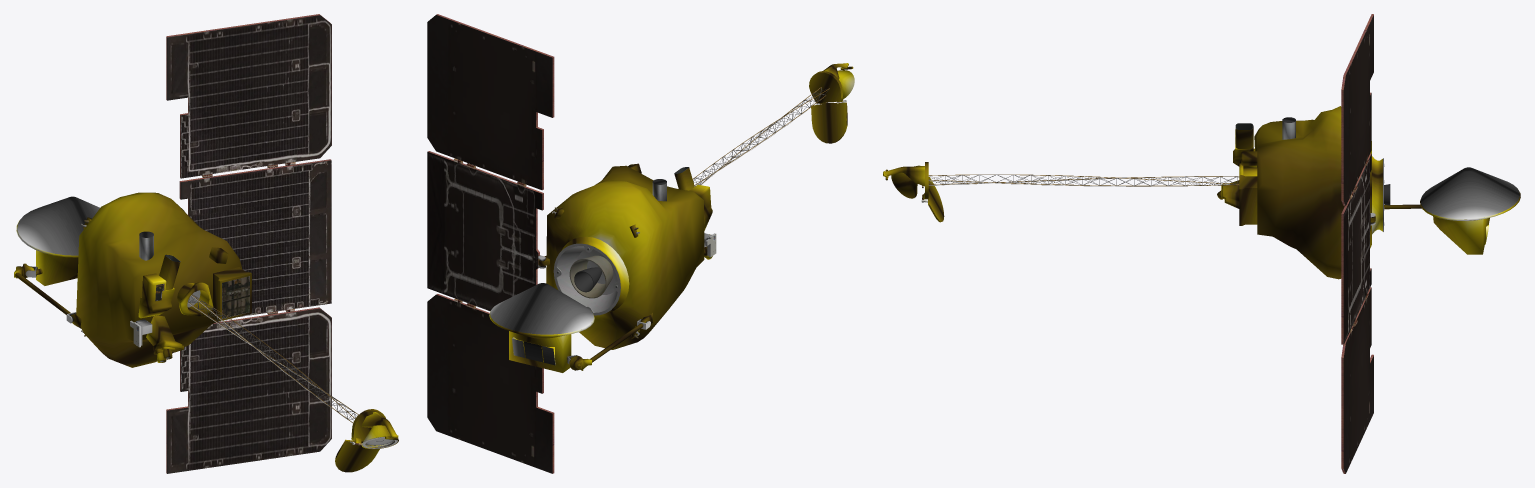
File: odyssey.glb
3 views of the same model, side by side, from view 1: azimuth 30°, elevation 25°; view 2: azimuth 150°, elevation 25°; view 3: azimuth 270°, elevation 25° (orthographic). The views are drawn at different scales.
Visible parts, largest first — view 1: shiny_panel, foil_gold, foil_silver, tex_boom, tex_01, tex_02, tex_AO_2; view 2: tex_01, foil_gold, tex_02, foil_silver, tex_boom, tex_04, normal_panels; view 3: foil_gold, tex_01, tex_02, foil_silver, tex_boom.
Boxes of the visible parts, <box> form: shiny_panel: <box>167,15,331,473</box>; foil_gold: <box>14,192,398,472</box>; foil_silver: <box>17,196,153,255</box>; tex_boom: <box>188,294,358,422</box>; tex_01: <box>71,162,361,445</box>; tex_02: <box>166,14,331,473</box>; tex_AO_2: <box>25,266,169,362</box>; tex_01: <box>427,15,846,473</box>; foil_gold: <box>489,63,854,372</box>; tex_02: <box>427,14,620,473</box>; foil_silver: <box>490,179,666,334</box>; tex_boom: <box>692,87,829,186</box>; tex_04: <box>555,183,666,338</box>; normal_panels: <box>512,338,555,365</box>; foil_gold: <box>883,106,1520,279</box>; tex_01: <box>921,15,1390,473</box>; tex_02: <box>1341,14,1384,473</box>; foil_silver: <box>1282,117,1519,218</box>; tex_boom: <box>928,174,1239,186</box>.
Size of the model in its own units: 3.36 by 5.67 by 8.22.
Materials: 9 (9 with a texture image).
